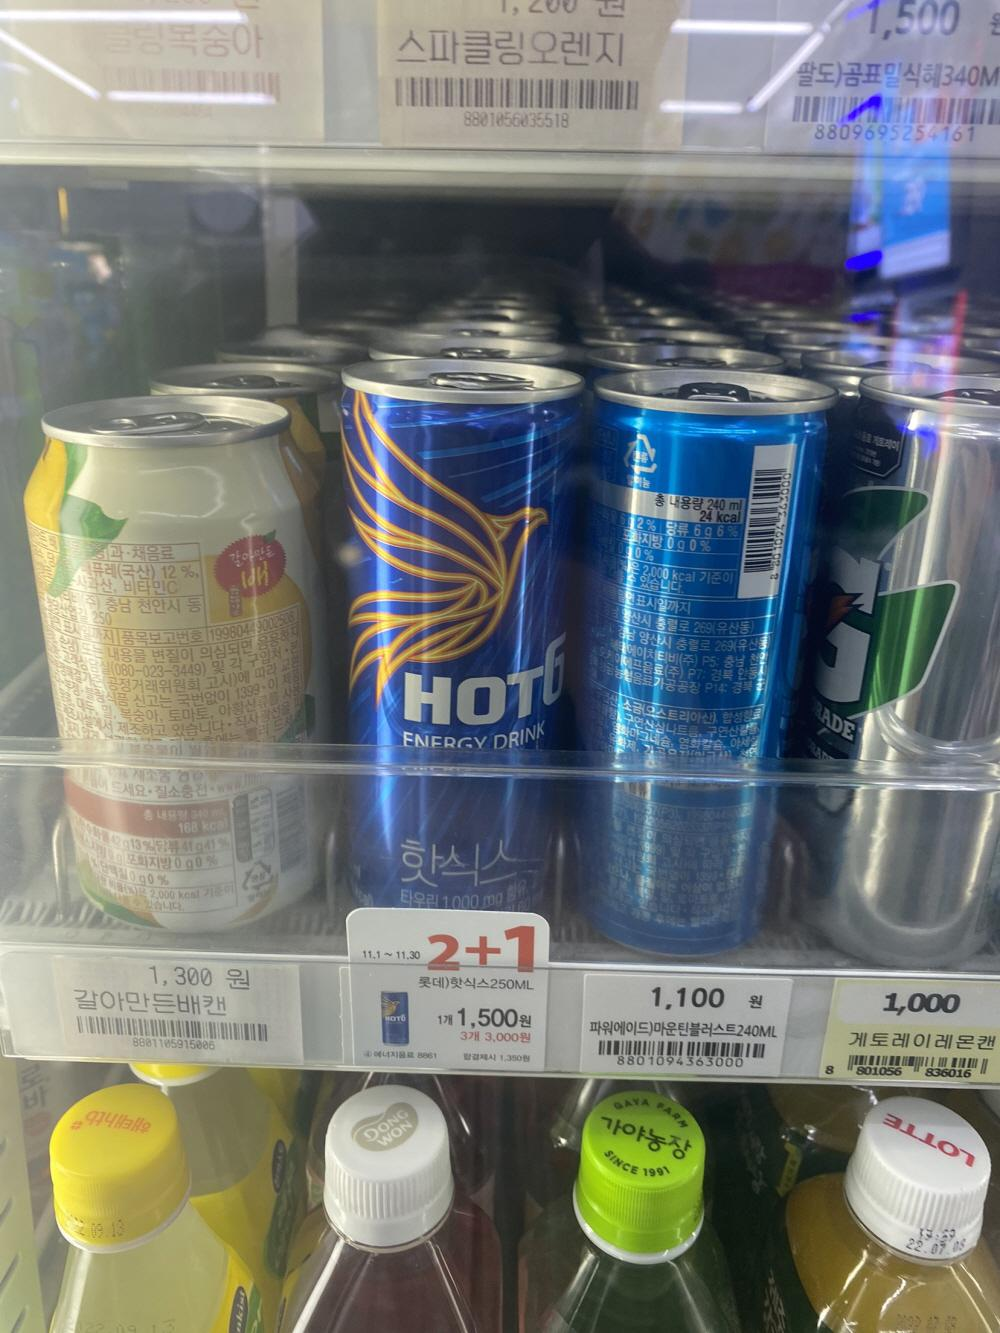hotsix_org: (334, 347, 595, 907)
